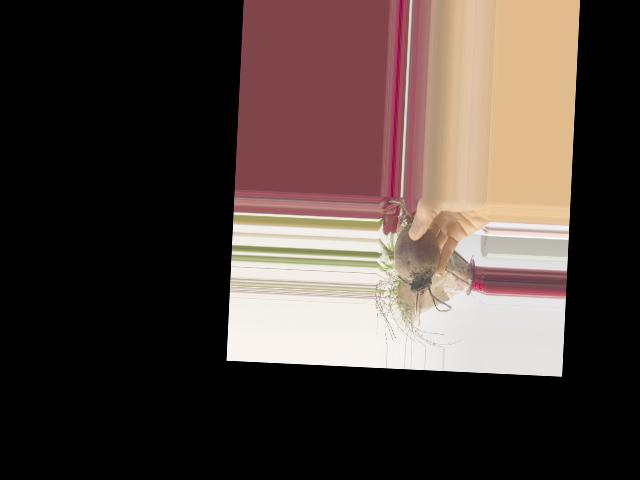beet: (384, 200, 456, 312)
